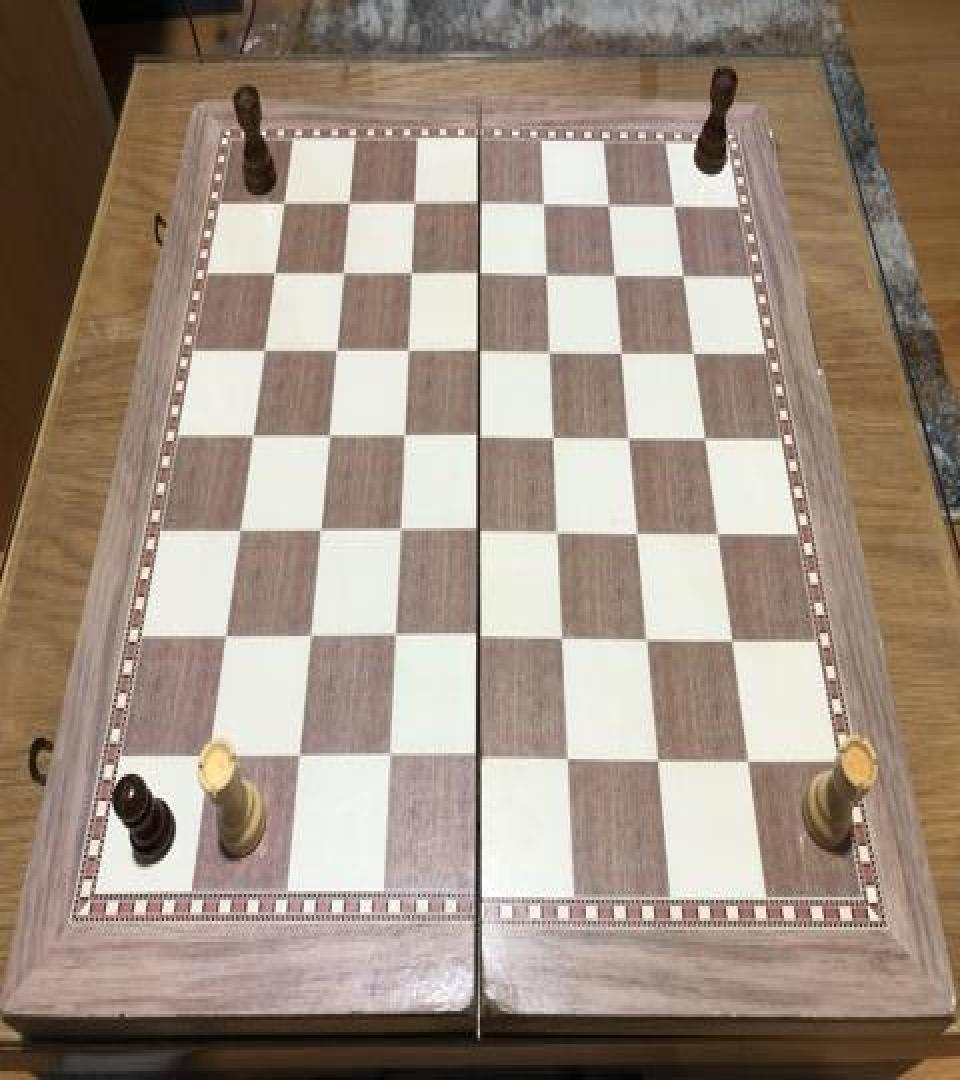xcorner: (386, 514, 410, 551), (306, 514, 330, 551), (225, 514, 249, 551), (551, 622, 575, 659), (466, 622, 490, 659), (381, 622, 405, 659), (466, 742, 490, 779), (375, 742, 399, 779), (285, 742, 309, 779), (194, 742, 218, 779), (467, 186, 491, 222), (401, 186, 425, 222), (336, 186, 360, 222), (270, 184, 294, 220), (672, 258, 696, 294), (604, 258, 628, 294), (535, 256, 559, 292), (467, 256, 491, 292), (398, 256, 422, 292), (330, 255, 354, 291), (261, 255, 285, 291), (682, 336, 706, 372), (611, 336, 635, 372), (539, 334, 563, 370), (467, 334, 491, 370), (395, 334, 419, 370), (322, 333, 346, 369), (250, 333, 274, 369), (694, 422, 718, 458), (618, 422, 642, 458), (542, 420, 566, 456), (466, 420, 490, 456), (391, 420, 415, 456), (315, 418, 339, 454), (238, 418, 262, 454), (706, 518, 730, 554), (626, 516, 650, 552), (546, 516, 570, 552), (466, 516, 490, 552), (720, 624, 744, 660), (636, 624, 660, 660), (296, 621, 320, 657), (211, 621, 235, 657), (736, 744, 760, 780), (646, 744, 670, 780), (556, 744, 580, 780), (663, 188, 687, 223), (598, 188, 622, 223), (532, 188, 556, 223)
